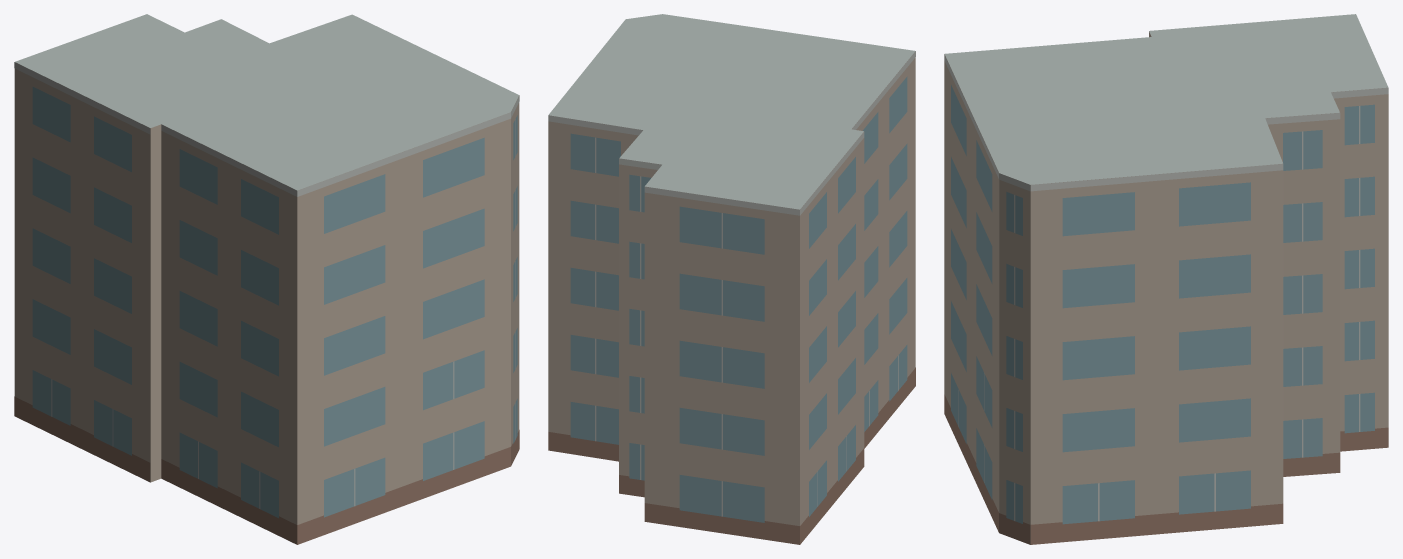
File: survey-upis-32730204.glb
The picture shows the model from 3 angles, left to right: view 1: azimuth 30°, elevation 25°; view 2: azimuth 150°, elevation 25°; view 3: azimuth 270°, elevation 25°; orthographic projection. The views are drawn at different scales.
Parts seen in each view (by area): view 1: survey-upis-32730204.tmp; view 2: survey-upis-32730204.tmp; view 3: survey-upis-32730204.tmp.
Part boxes in pixels (left/top/right/bottom): survey-upis-32730204.tmp: left=14, top=14, right=519, bottom=544; survey-upis-32730204.tmp: left=548, top=14, right=915, bottom=544; survey-upis-32730204.tmp: left=944, top=14, right=1388, bottom=544.
Bounding box in the file's own units: 13.65 × 13.4 × 14.99.
